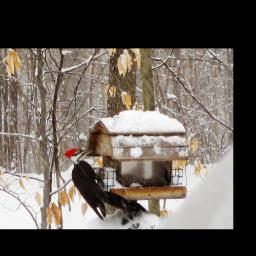Woodpecker: (62, 148, 140, 221)
